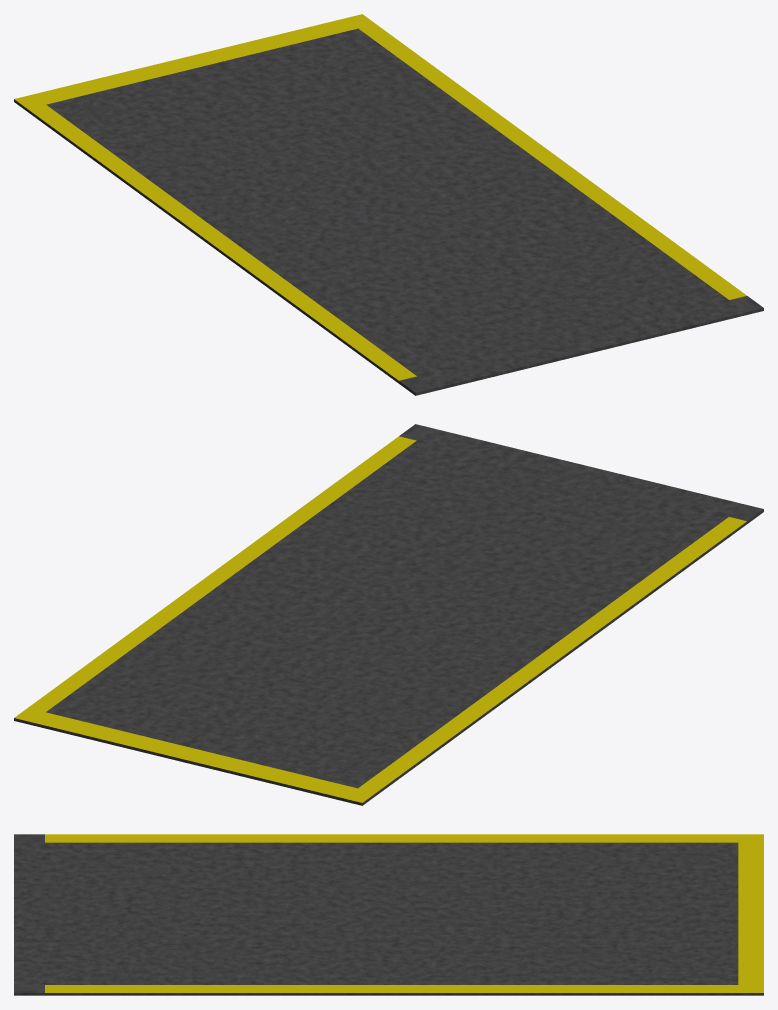
Rendered from nft.gltf.
3 views of the same model, one above another, from view 1: azimuth 30°, elevation 25°; view 2: azimuth 150°, elevation 25°; view 3: azimuth 270°, elevation 25° (orthographic). The views are drawn at different scales.
Parts seen in each view (by area): view 1: nft; view 2: nft; view 3: nft.
Part boxes in pixels (box(x1,y1,x2,y2)): nft: box(14, 14, 763, 395); nft: box(14, 424, 763, 805); nft: box(14, 834, 763, 995).
Bounding box in the file's own units: 2.5 × 0.02 × 4.99.
Materials: 1 (1 with a texture image).
